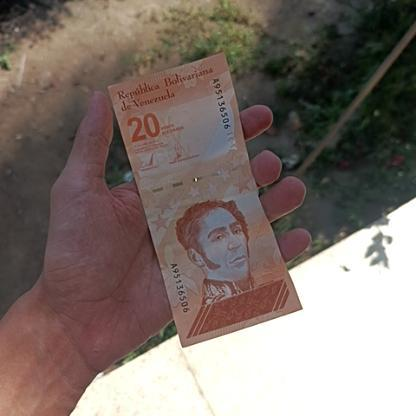twenty-front-vef: (108, 50, 304, 348)
